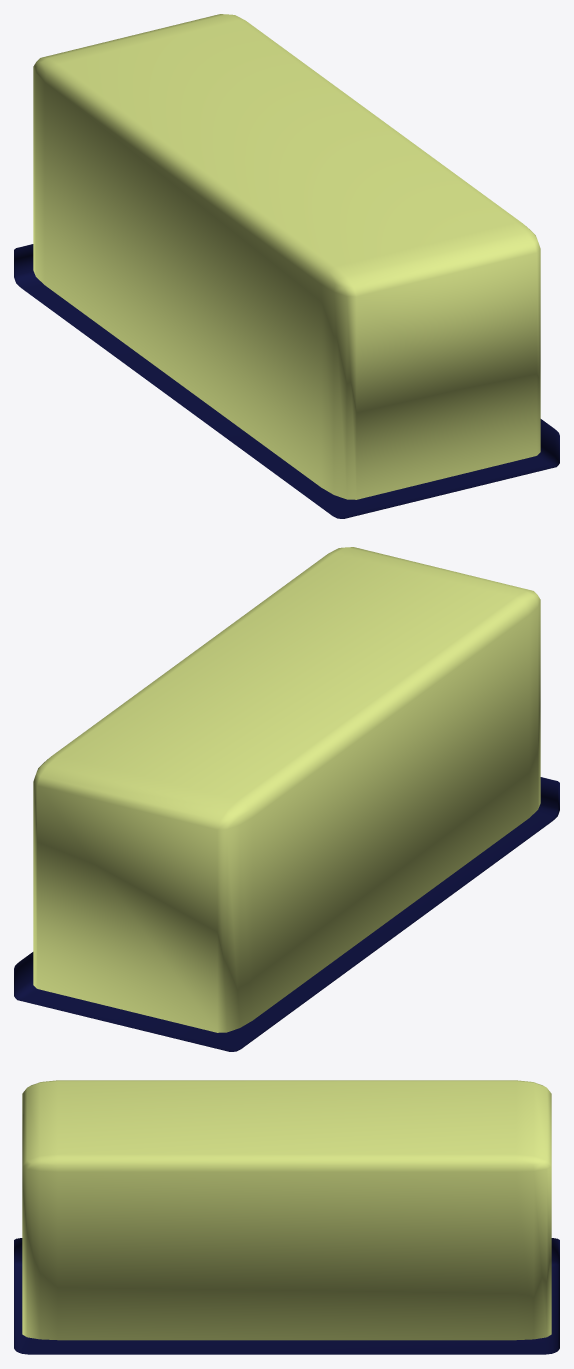
File: tereyağı.fbx
3 renders of one model, top to bottom at view 1: azimuth 30°, elevation 25°; view 2: azimuth 150°, elevation 25°; view 3: azimuth 270°, elevation 25°, orthographic. The views are drawn at different scales.
Visible parts, largest first — view 1: Cube; view 2: Cube; view 3: Cube.
Boxes of the visible parts, x1,y1,x2,y2 form: Cube: (14,14,559,518); Cube: (14,547,559,1051); Cube: (14,1080,559,1354).
Size of the model in its own units: 217 by 214 by 549.
